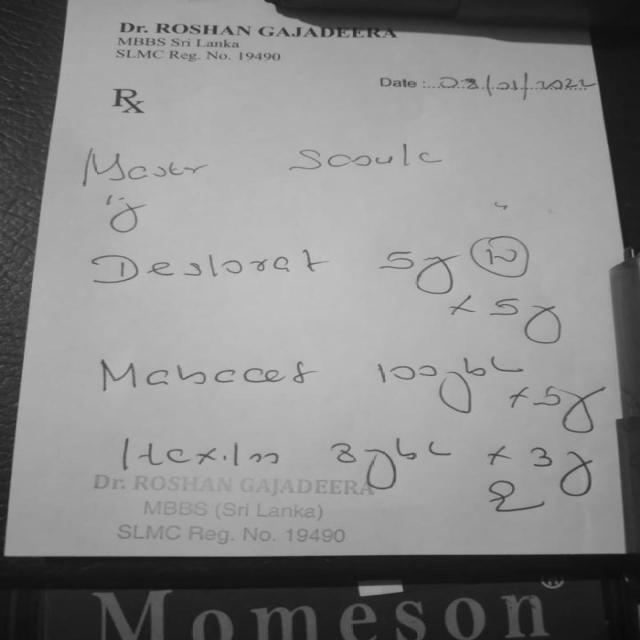Prescription: (82, 228, 578, 346), (105, 434, 606, 520), (95, 357, 595, 439)
